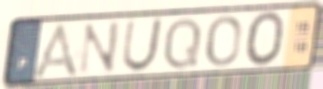A: (29, 20, 81, 78)
N: (75, 20, 122, 77)
O: (244, 9, 287, 69), (204, 14, 244, 69)
Q: (161, 15, 204, 72)
U: (119, 16, 165, 74)
